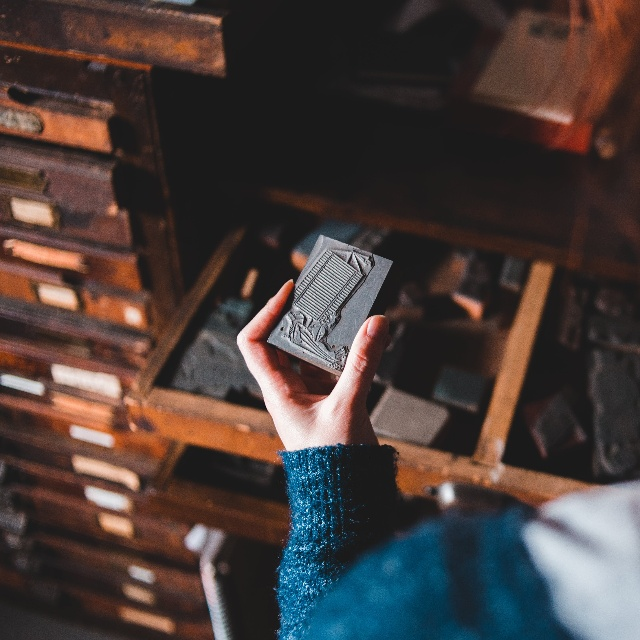Sin_guantes: (236, 274, 393, 448)
